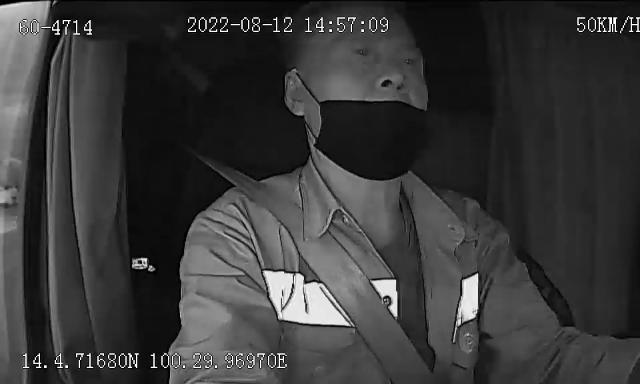SafeDriving: (370, 65, 410, 96)
Seatbelt: (190, 148, 438, 384)
